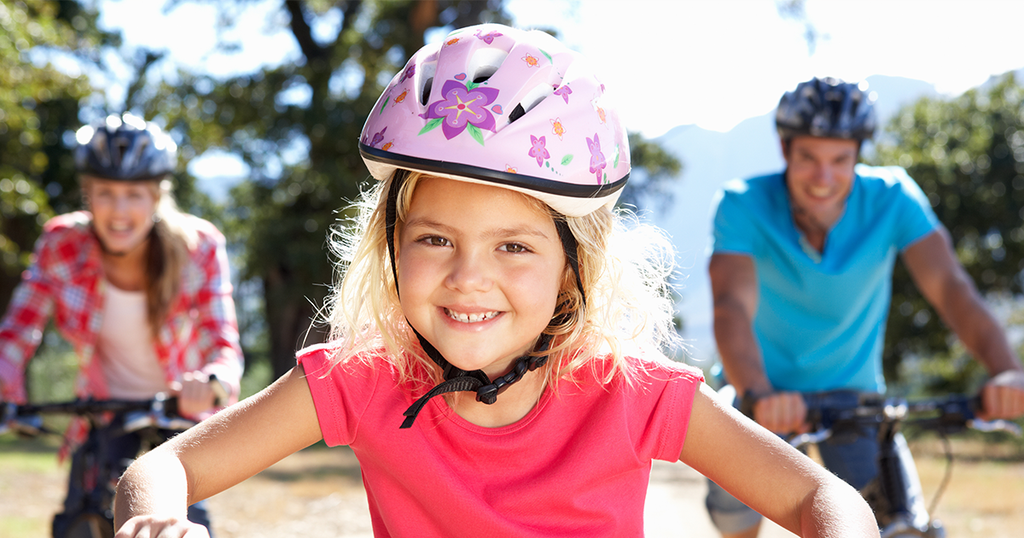helmet: (359, 23, 632, 371), (773, 77, 879, 213), (75, 112, 177, 253)
